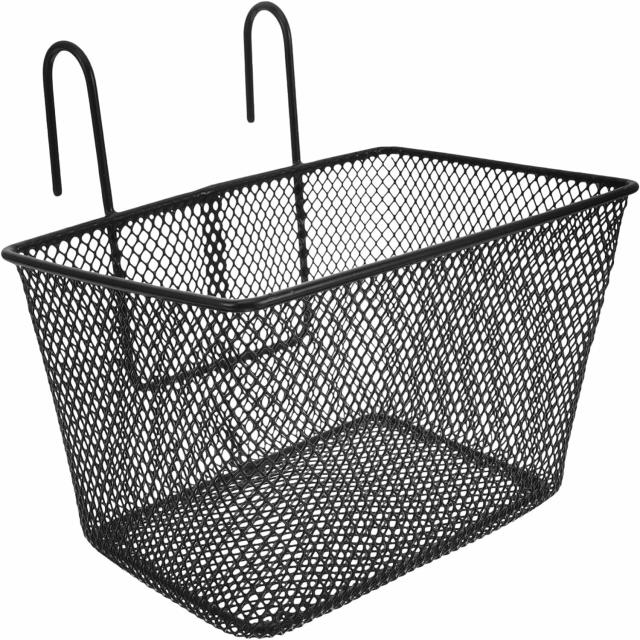basket: (2, 2, 636, 639)
